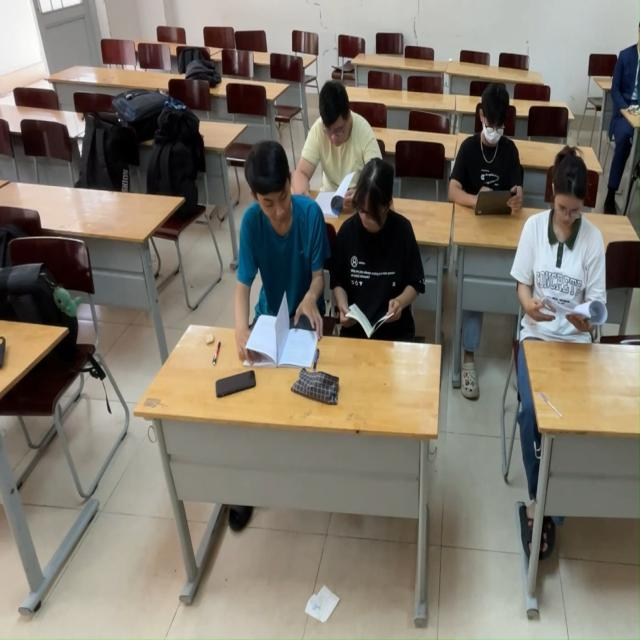read: (227, 135, 331, 380), (512, 163, 606, 353), (333, 165, 425, 348), (443, 93, 523, 230), (299, 65, 372, 211)
